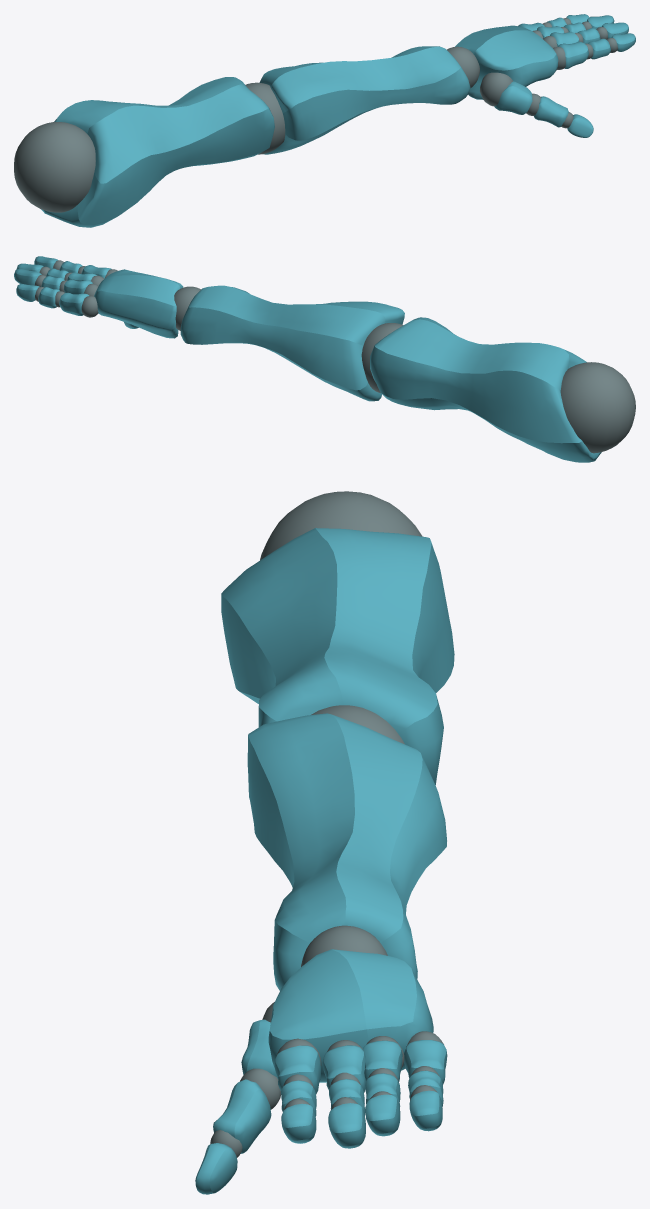
File: Arm_L.fbx
The picture shows the model from 3 angles, top to bottom: view 1: azimuth 30°, elevation 25°; view 2: azimuth 150°, elevation 25°; view 3: azimuth 270°, elevation 25°; orthographic projection. The views are drawn at different scales.
Parts seen in each view (by area): view 1: Alpha_Surface, Alpha_Joints; view 2: Alpha_Surface, Alpha_Joints; view 3: Alpha_Surface, Alpha_Joints.
Part boxes in pixels (left/top/right/bottom): Alpha_Surface: left=41, top=14, right=635, bottom=227; Alpha_Joints: left=14, top=18, right=617, bottom=212; Alpha_Surface: left=14, top=256, right=601, bottom=462; Alpha_Joints: left=34, top=260, right=635, bottom=453; Alpha_Surface: left=195, top=528, right=454, bottom=1194; Alpha_Joints: left=210, top=491, right=443, bottom=1157.
Size of the model in its own units: 83.87 by 14.78 by 15.45.
